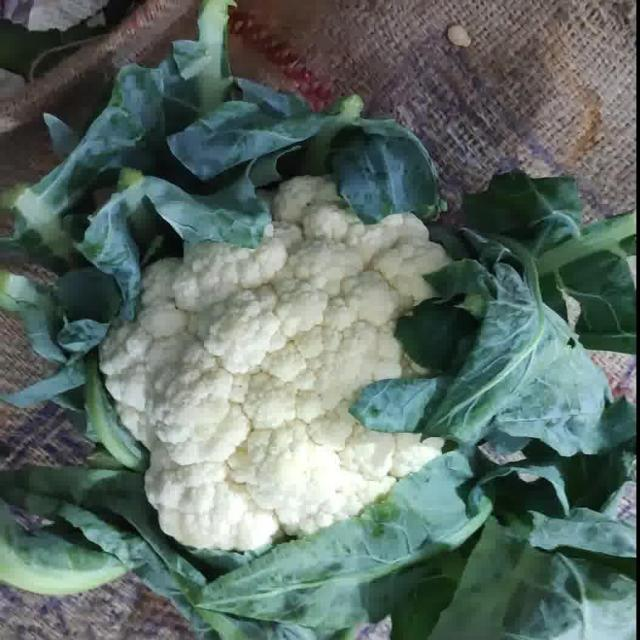Cauliflower: (92, 170, 484, 554)
